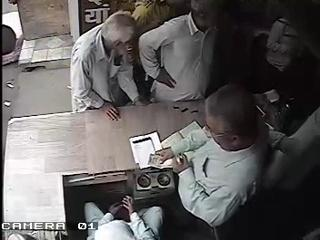Normal: (154, 84, 271, 230), (138, 0, 225, 103), (69, 12, 147, 122), (84, 195, 164, 240)
